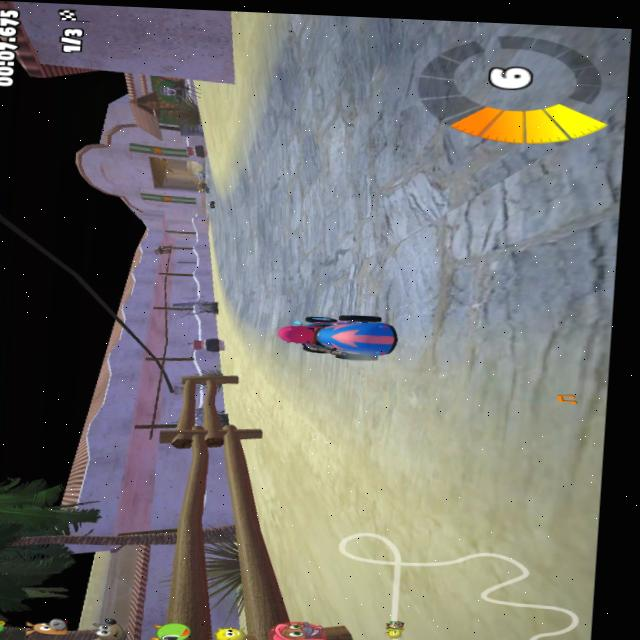enemy_kart: (200, 195, 217, 211)
player_kart: (275, 312, 394, 357)
track: (391, 18, 639, 368), (274, 14, 410, 317), (217, 167, 280, 305), (253, 13, 295, 169), (194, 159, 218, 194), (238, 305, 271, 327), (203, 211, 222, 233)
